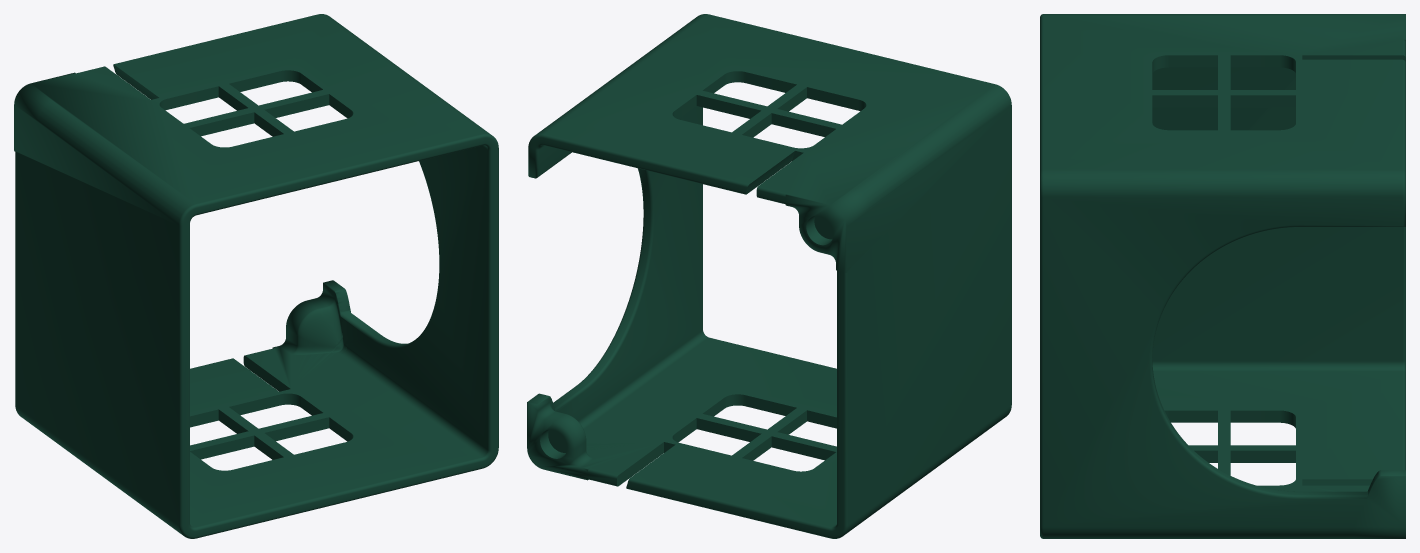
The model's file is SHB.glb.
The picture shows the model from 3 angles, left to right: view 1: azimuth 30°, elevation 25°; view 2: azimuth 150°, elevation 25°; view 3: azimuth 270°, elevation 25°; orthographic projection. The views are drawn at different scales.
Visible parts, largest first — view 1: SHB_PineGreen; view 2: SHB_PineGreen; view 3: SHB_PineGreen.
Part boxes in pixels (left/top/right/bottom): SHB_PineGreen: left=14, top=14, right=498, bottom=538; SHB_PineGreen: left=527, top=14, right=1011, bottom=538; SHB_PineGreen: left=1040, top=14, right=1405, bottom=538.
Bounding box in the file's own units: 96 × 96 × 86.6.
